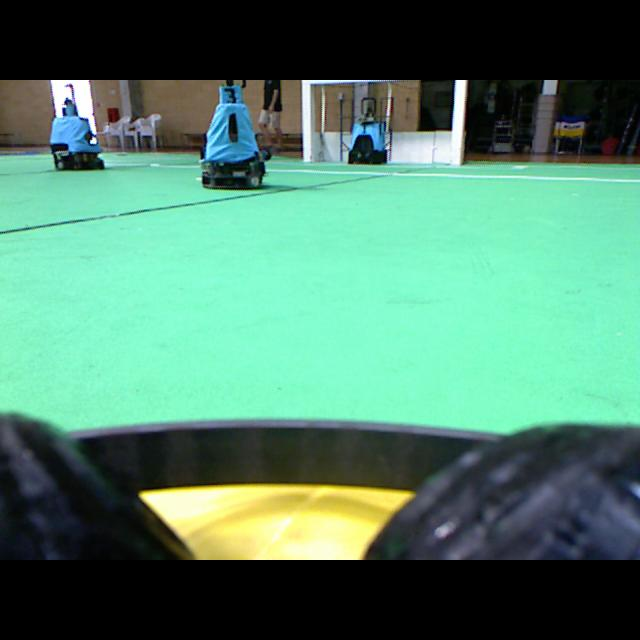ball: (139, 484, 413, 558)
goal: (451, 80, 467, 165), (301, 80, 311, 161)
